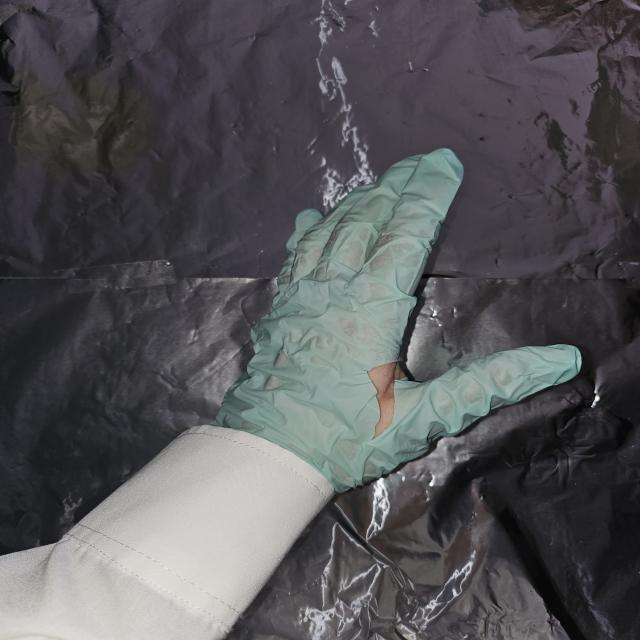gloves_damaged: (207, 146, 584, 494)
